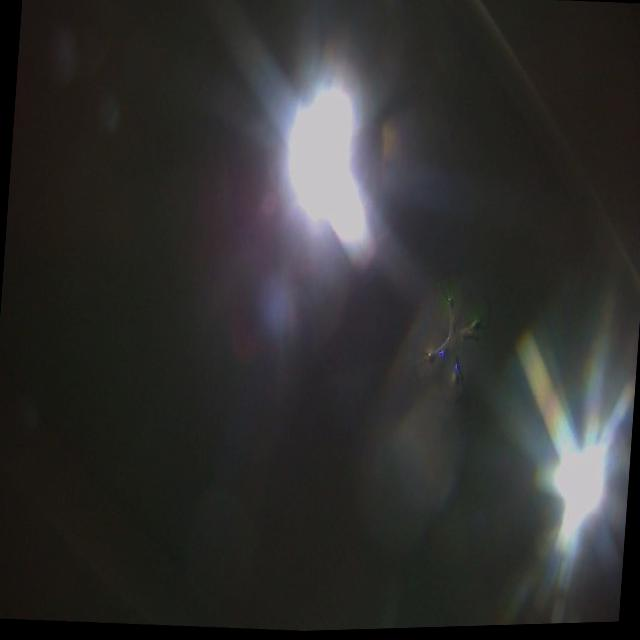drone: (406, 267, 496, 416)
